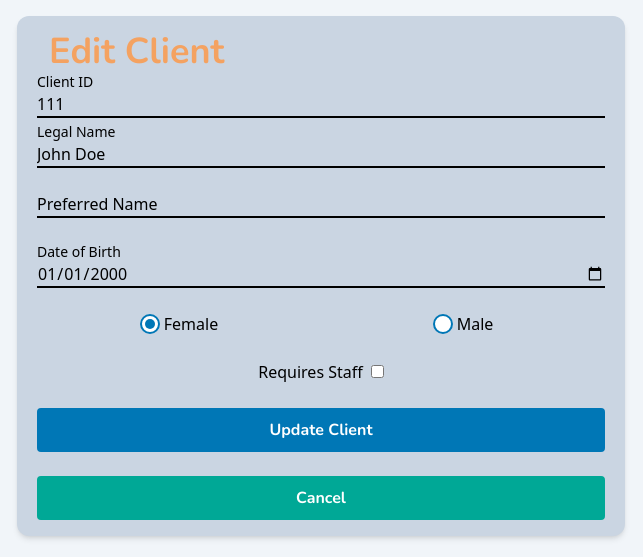
it: EditClientPage tests › should show validation errors from the backend
Step 1. Click the button "Update Client" → (321, 430), box [37,408,605,452]
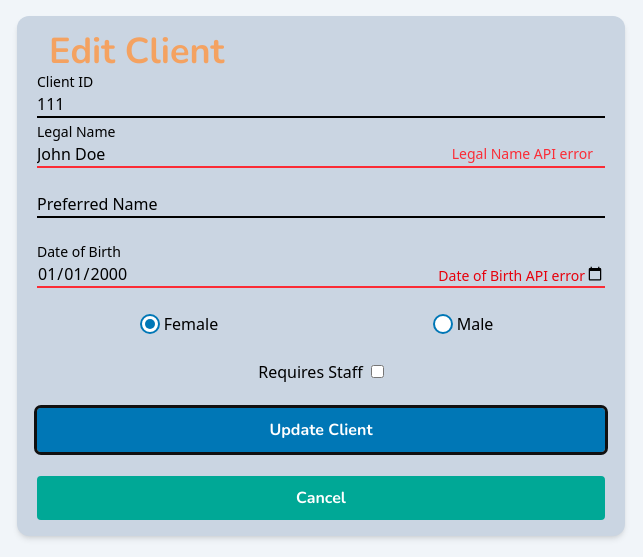
Check: the text "Legal Name API error" is shown, box [452,144,593,164]
Check: the text "Date of Birth API error" is shown, box [438,266,585,286]
